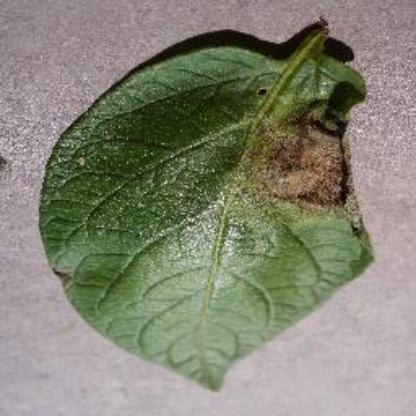Late-Blight: (27, 16, 396, 396)
